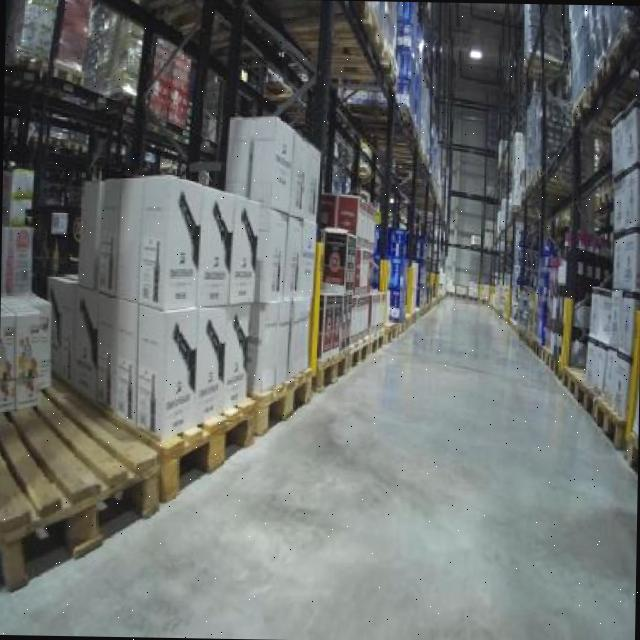pallet: (0, 371, 159, 598), (148, 371, 254, 505), (255, 349, 318, 439), (586, 381, 634, 456), (553, 354, 597, 411), (310, 332, 340, 405), (344, 323, 386, 371)
